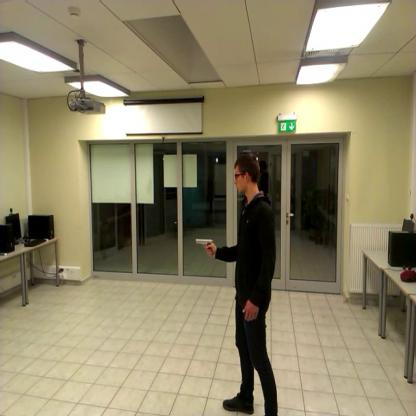Pistol: (191, 232, 217, 266)
